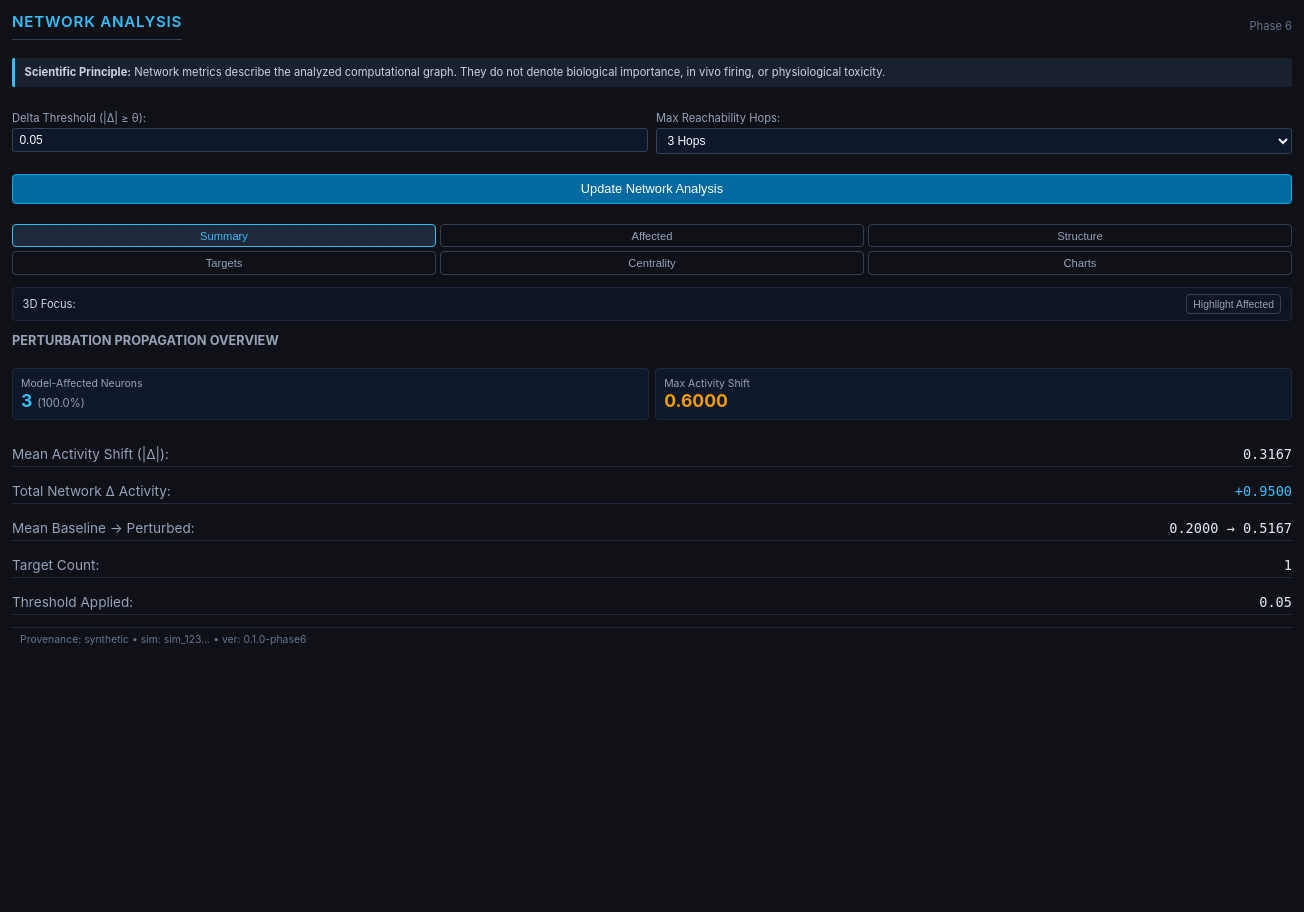
Phase 6 Network Analysis Frontend Integration › 7. Switches to target reachability analysis
Click the button "Targets" at x=224, y=263, box left=12, top=251, right=436, bottom=275
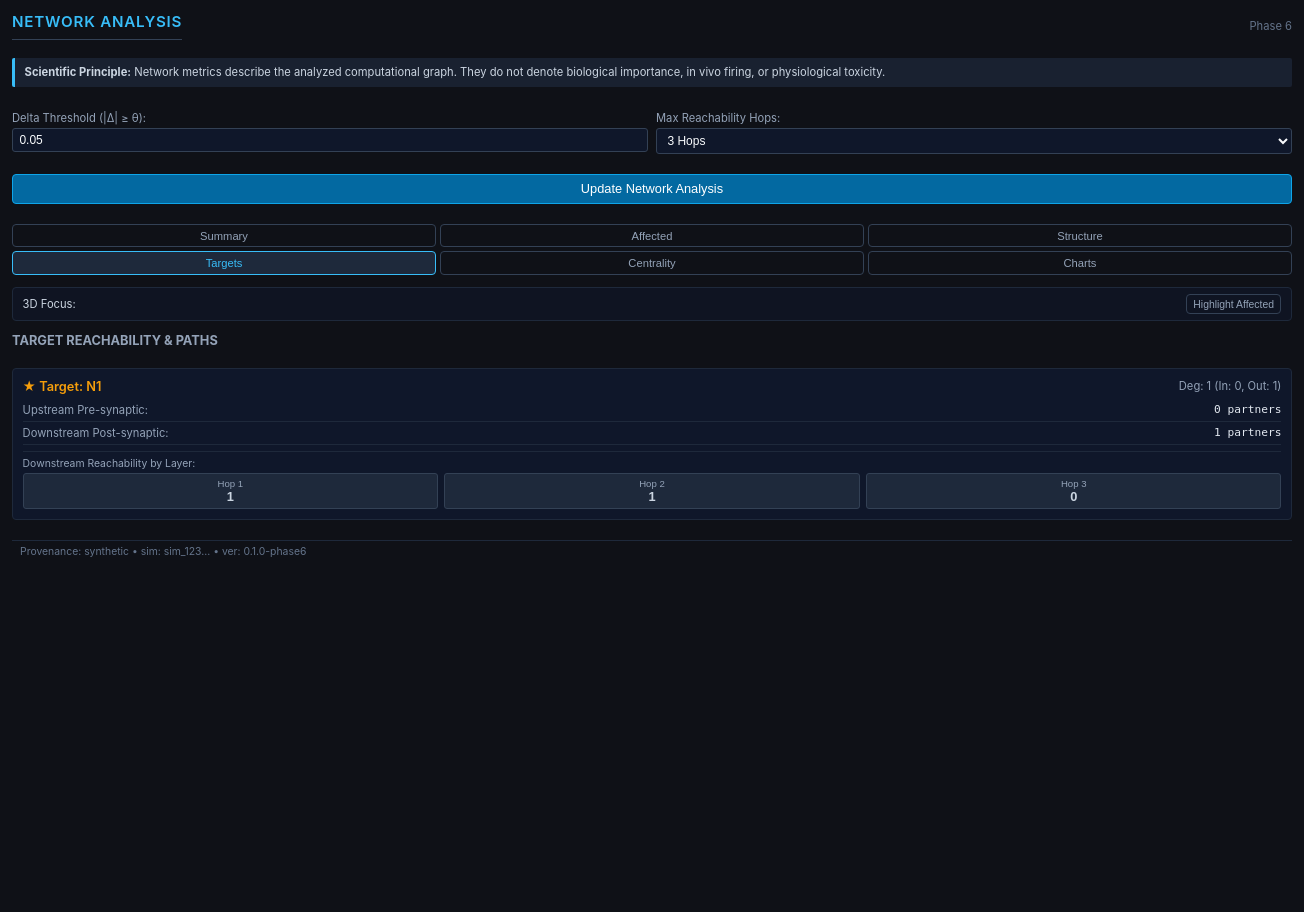
expect the text "★ Target: N1" is shown: met, box left=23, top=379, right=101, bottom=394
expect the text "1 partners" is shown: met, box left=1214, top=426, right=1281, bottom=440
expect the text "Hop 1" is shown: met, box left=218, top=478, right=243, bottom=489
